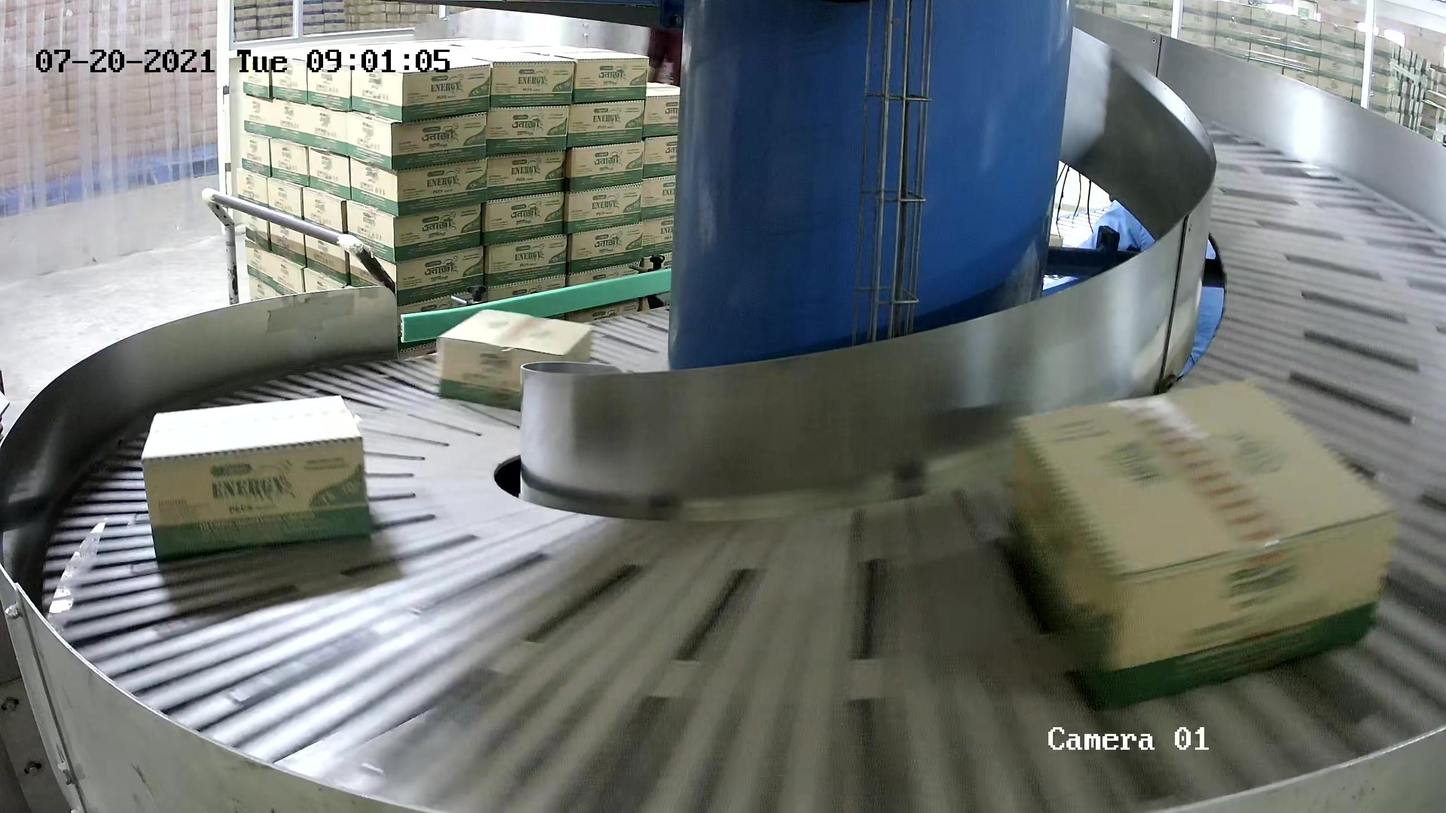Box: (995, 370, 1395, 709), (140, 394, 373, 565), (433, 307, 596, 416)
